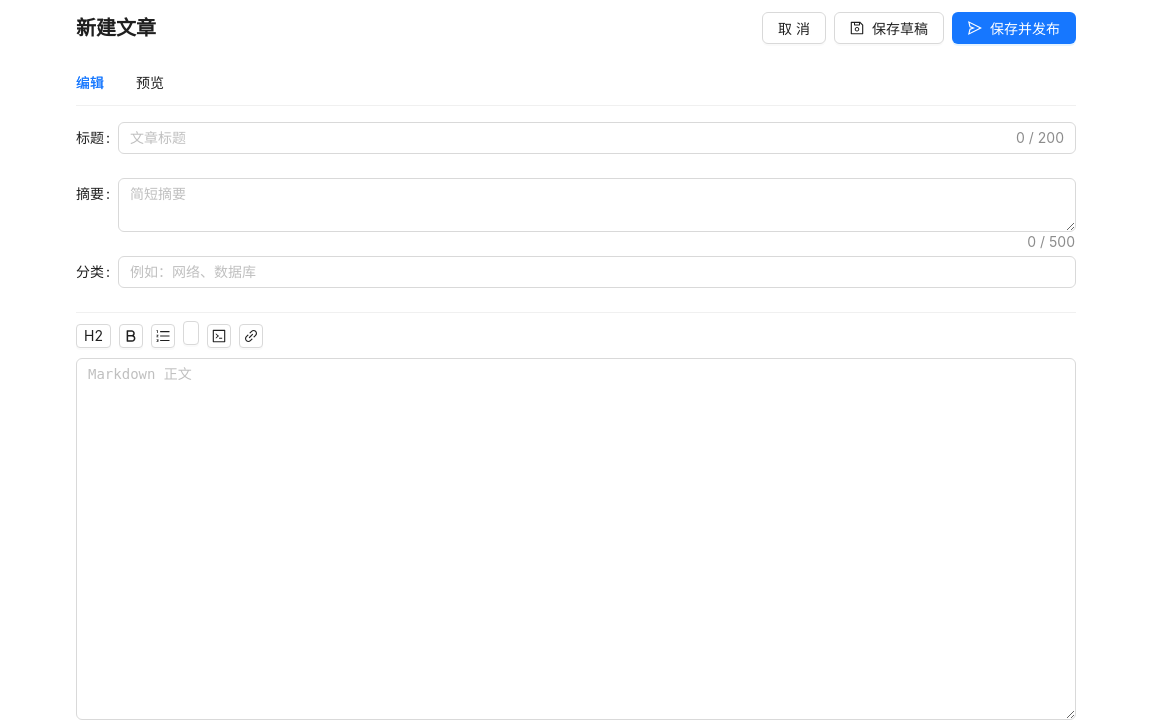
Test: ArticleEditPage › shows validation errors for empty fields
Click the button "保存草稿" at (889, 28), box [834, 12, 944, 44]
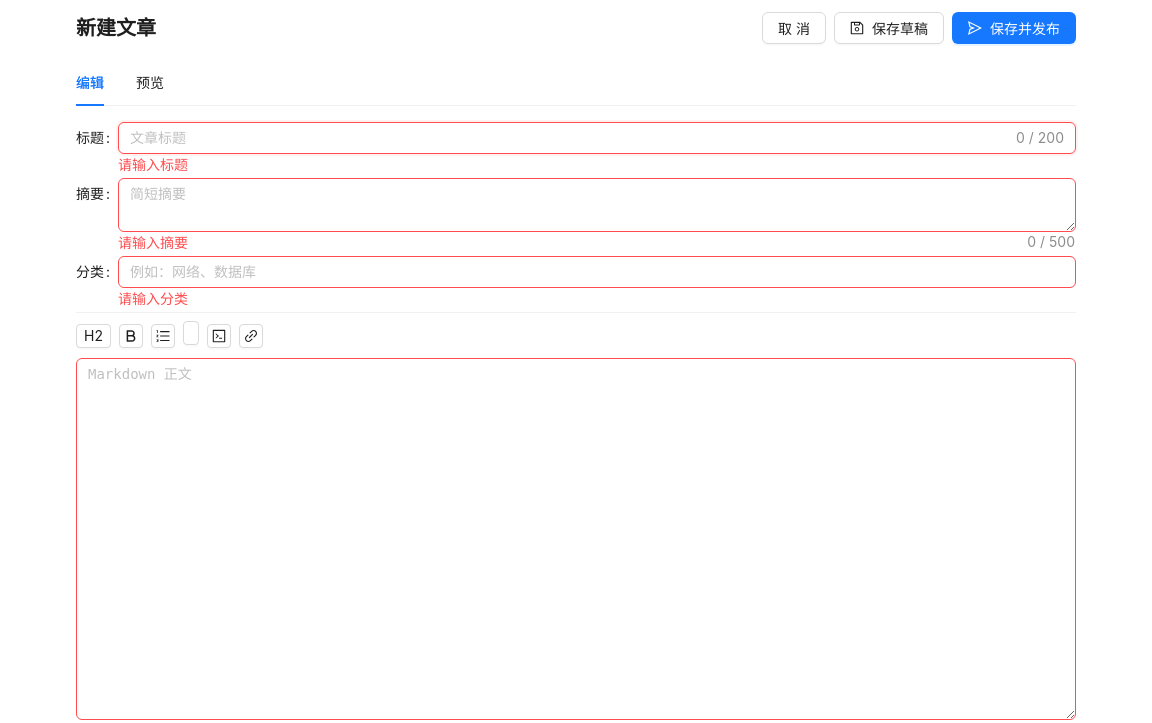
Expected: the text "请输入标题" is shown, [118, 156, 188, 173]
Expected: the text "请输入摘要" is shown, [118, 234, 188, 251]
Expected: the text "请输入分类" is shown, [118, 290, 188, 307]
